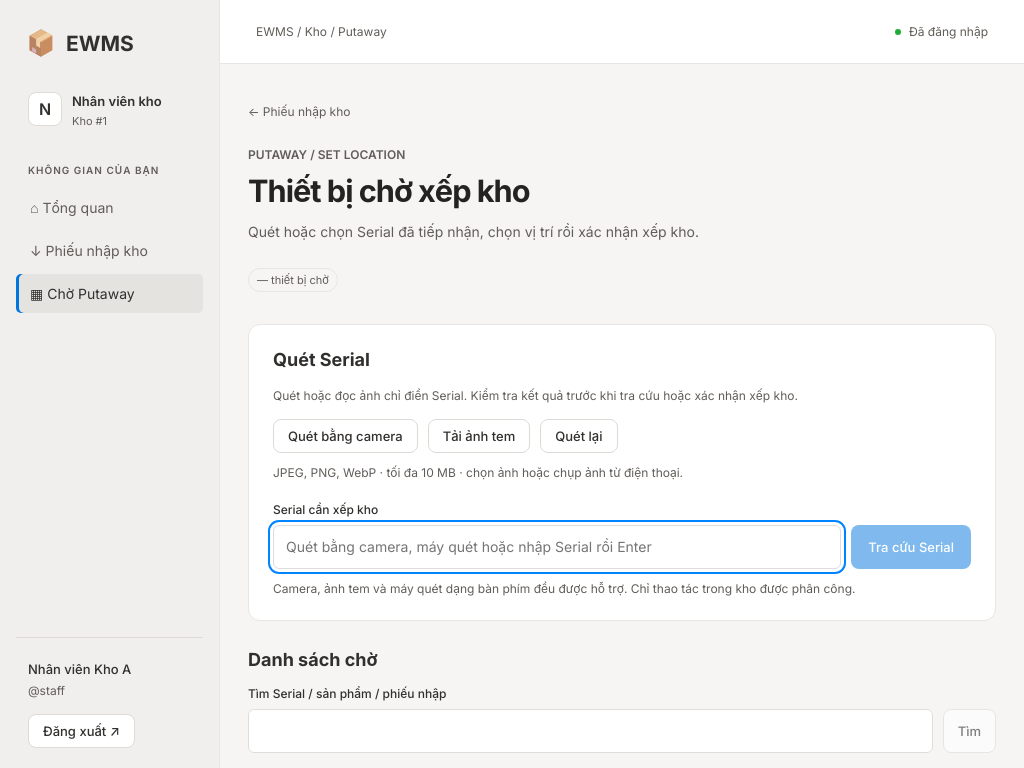
Test: shows quarantined DAMAGED condition and keeps confirmation payload limited to serial, target and version
Type "SN-AbC-99" into the field labelled "Serial cần xếp kho" at coordinates (557, 547), box x1=273 y1=525 x2=841 y2=569
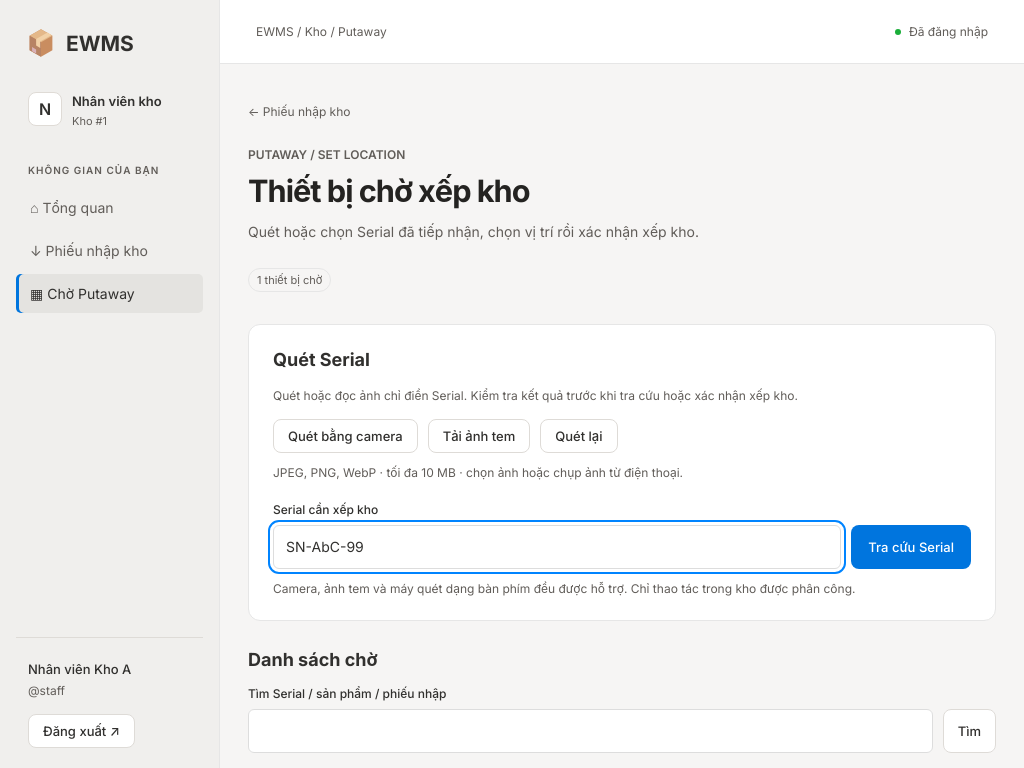
Submit the form named "Tra cứu Serial", box x1=273 y1=386 x2=971 y2=569
(page scrolled)
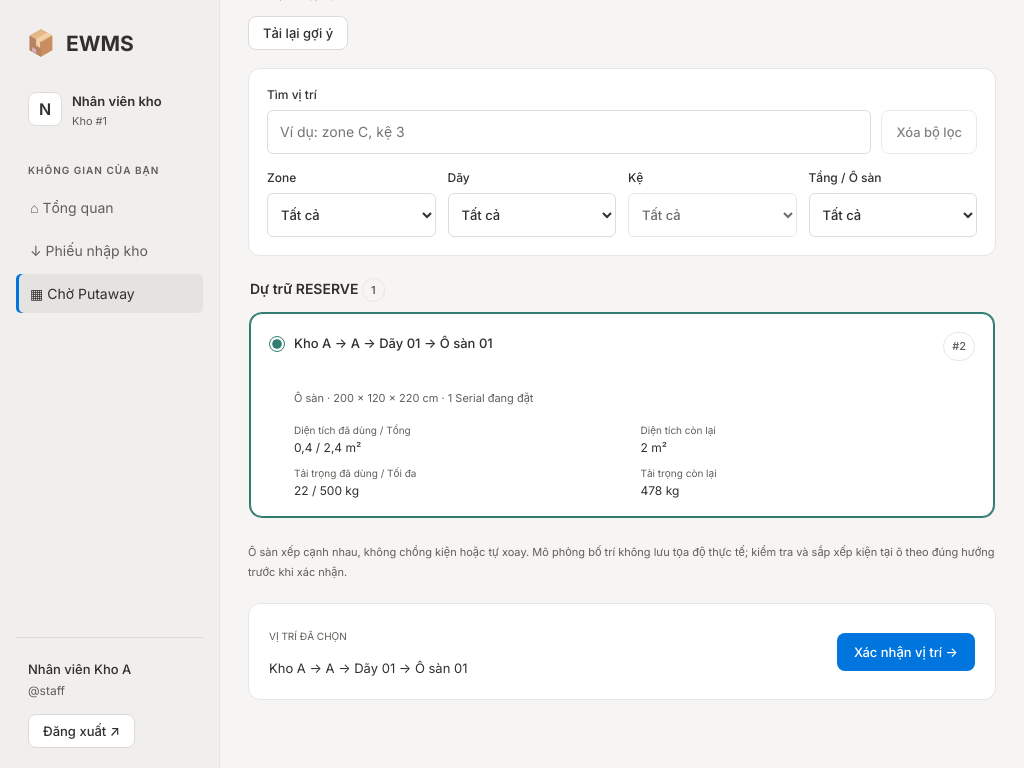
Expected: the radio button labelled "Kho A → A" is shown, x1=269 y1=336 x2=285 y2=352
Click the button "Xác nhận vị trí →" at coordinates (906, 652), box x1=837 y1=633 x2=975 y2=671
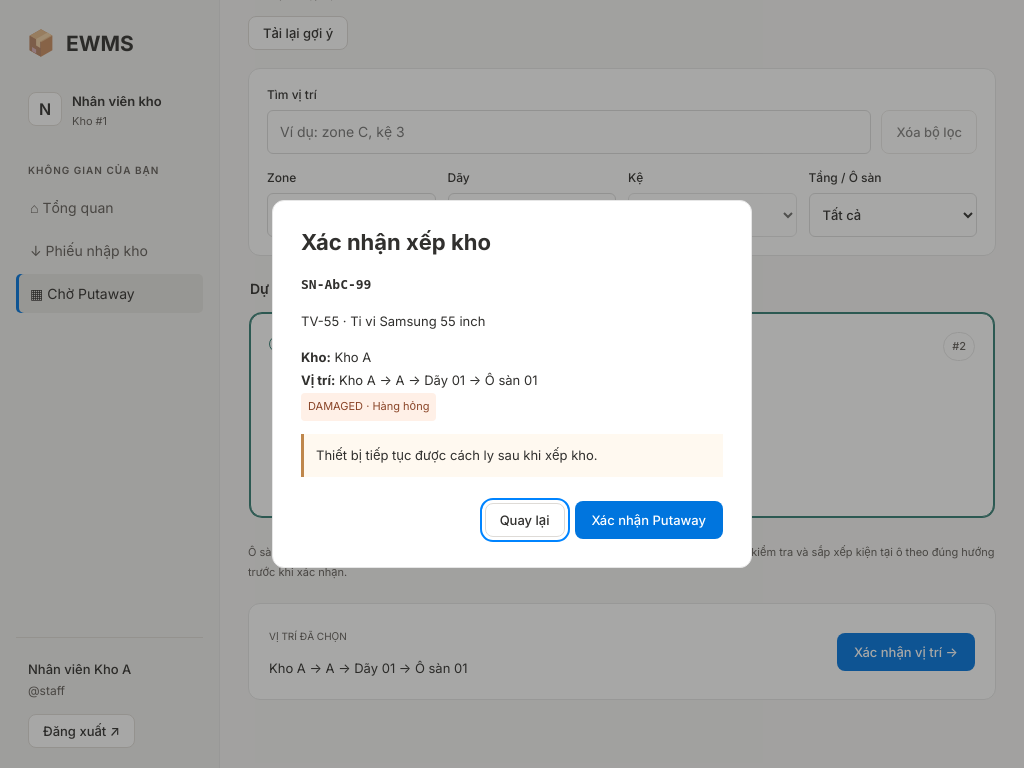
Expected: the text "Thiết bị tiếp tục được cách ly sau khi xếp kho." is shown, x1=301 y1=434 x2=723 y2=477
Click the button "Xác nhận Putaway" at coordinates (649, 520), box x1=574 y1=501 x2=723 y2=539
(page scrolled)
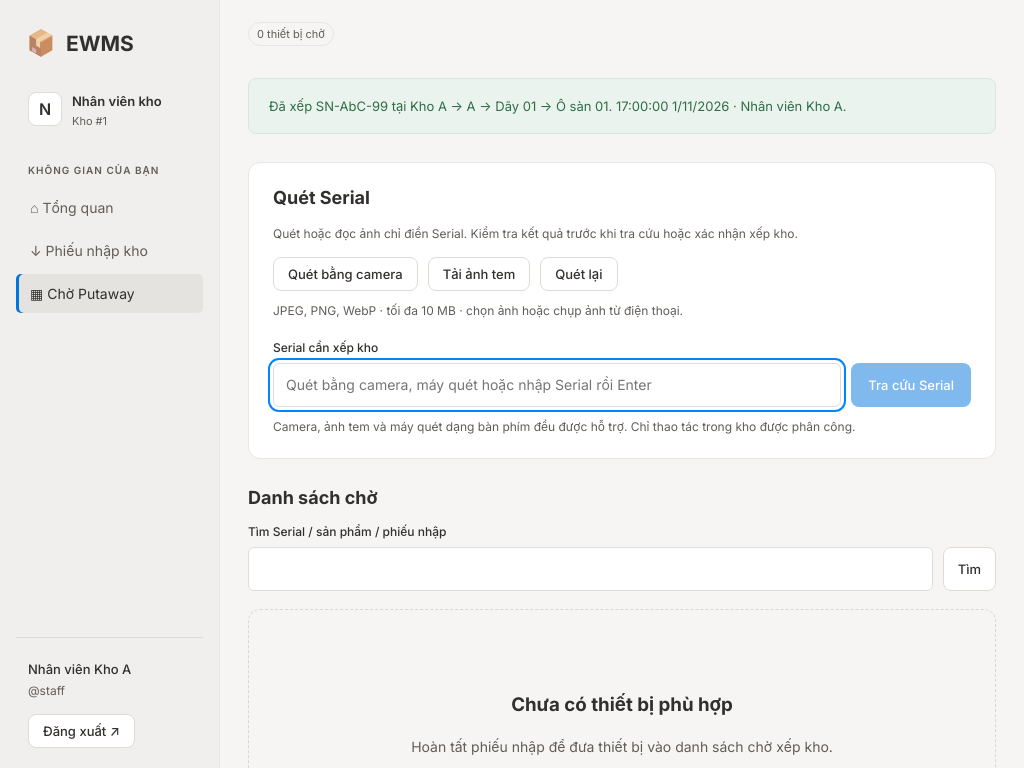
Expected: the text "Đã xếp SN-AbC-99 tại" is shown, x1=269 y1=98 x2=847 y2=114
